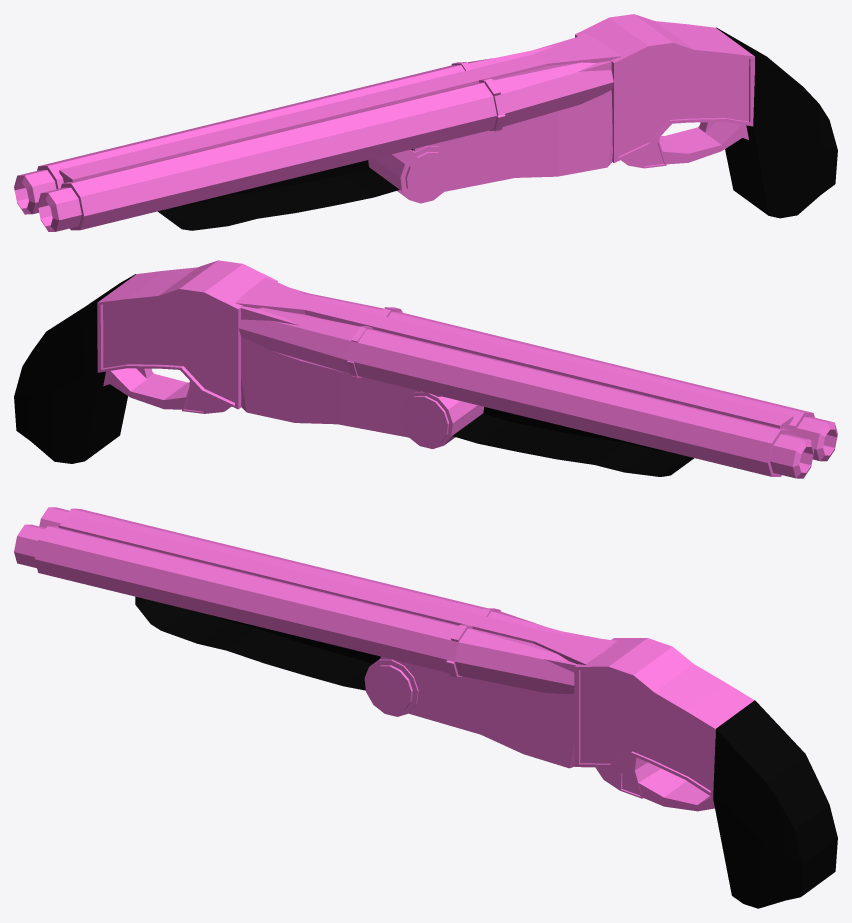
The model's file is Shotgun_Model.fbx.
The picture shows the model from 3 angles, top to bottom: view 1: azimuth 30°, elevation 25°; view 2: azimuth 150°, elevation 25°; view 3: azimuth 330°, elevation 25°; orthographic projection.
Visible parts, largest first — view 1: Cube; view 2: Cube; view 3: Cube.
Part boxes in pixels (x1=…): Cube: x1=14, y1=14, x2=837, y2=231; Cube: x1=14, y1=260, x2=837, y2=478; Cube: x1=14, y1=507, x2=837, y2=908.
Bounding box in the file's own units: 1983 × 496 × 226.
